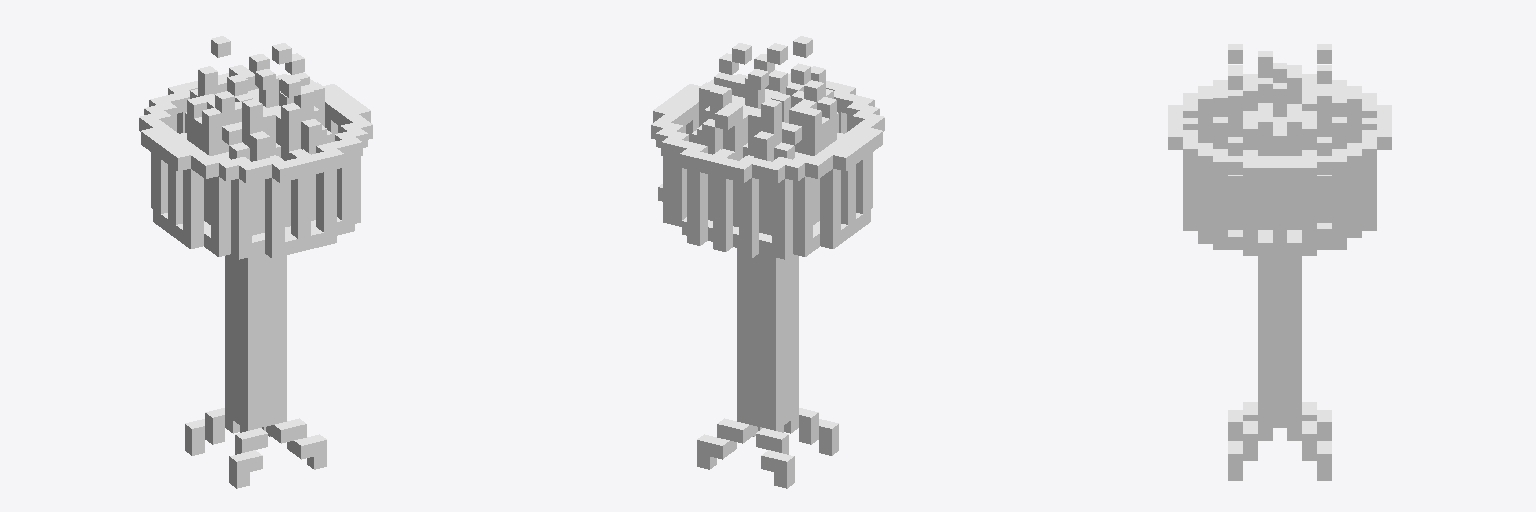
File: Wkoksownik.obj
3 views of the same model, side by side, from view 1: azimuth 30°, elevation 25°; view 2: azimuth 150°, elevation 25°; view 3: azimuth 270°, elevation 25° (orthographic).
Visible parts, largest first — view 1: object 1; view 2: object 1; view 3: object 1.
Boxes of the visible parts, box(x1,y1,x2,y2) form: object 1: box(139, 36, 372, 488); object 1: box(651, 36, 884, 488); object 1: box(1168, 44, 1391, 480).
Bounding box in the file's own units: 1.5 × 3 × 1.5.